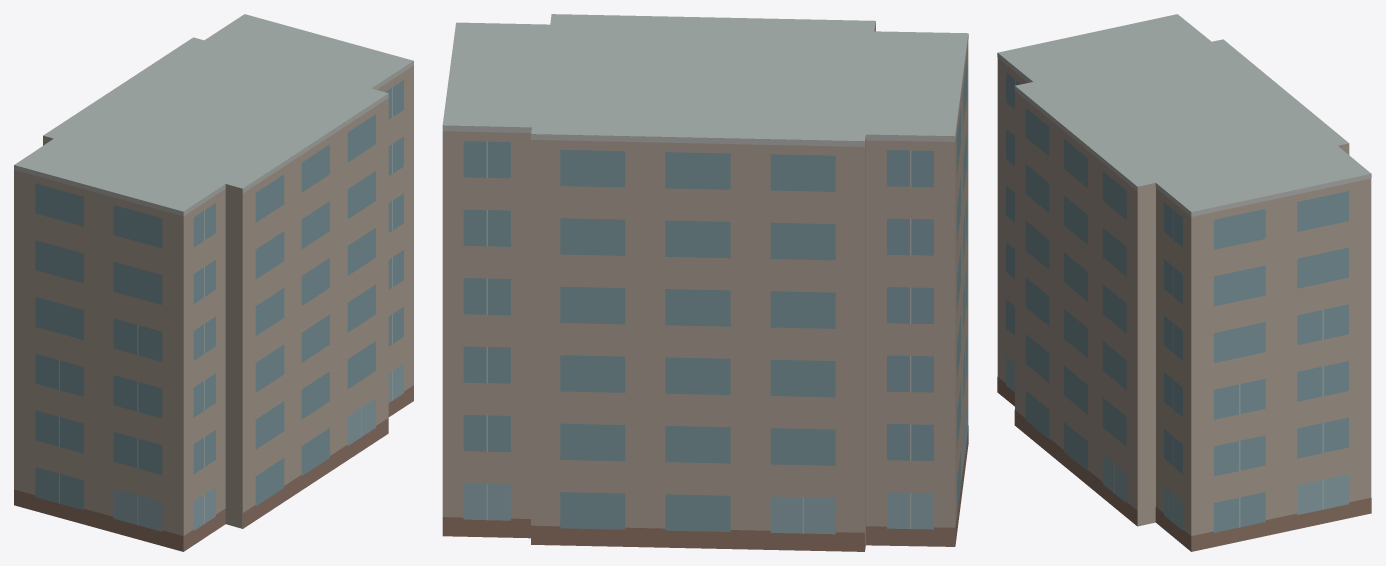
Rendered from survey-upis-33009108.glb.
The picture shows the model from 3 angles, left to right: view 1: azimuth 30°, elevation 25°; view 2: azimuth 150°, elevation 25°; view 3: azimuth 270°, elevation 25°; orthographic projection. The views are drawn at different scales.
Parts seen in each view (by area): view 1: survey-upis-33009108.tmp; view 2: survey-upis-33009108.tmp; view 3: survey-upis-33009108.tmp.
Boxes of the visible parts, <box> form: survey-upis-33009108.tmp: <box>14,14,413,551</box>; survey-upis-33009108.tmp: <box>442,14,968,551</box>; survey-upis-33009108.tmp: <box>997,14,1371,551</box>.
Bounding box in the file's own units: 21.64 × 17.3 × 17.26.
